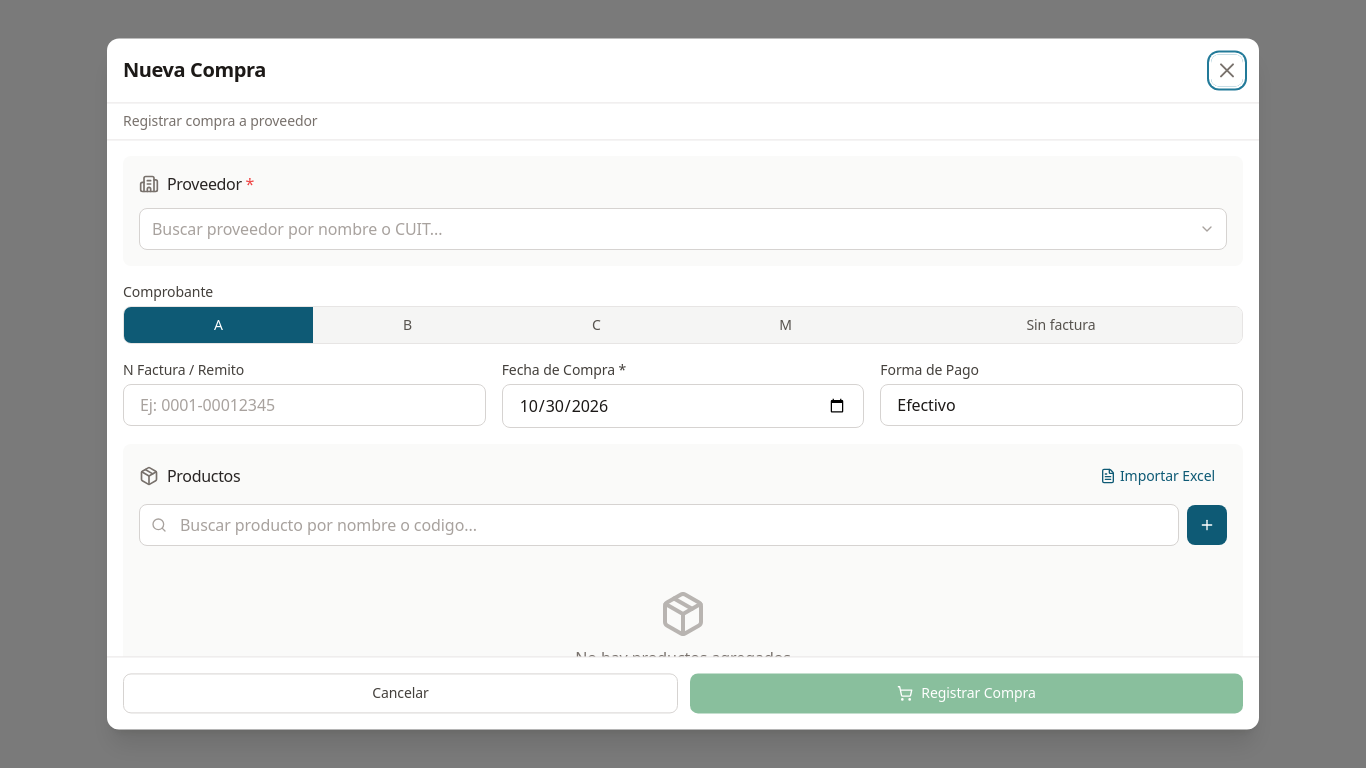
Test: ModalCompra — esqueleto del formulario › mig 293: factura M — discrimina IVA como la A, y avisa la retención
The image size is (1366, 768).
Click the field with placeholder "Buscar producto por nombre o codigo..." at coordinates (659, 525), box [139,504,1179,546]
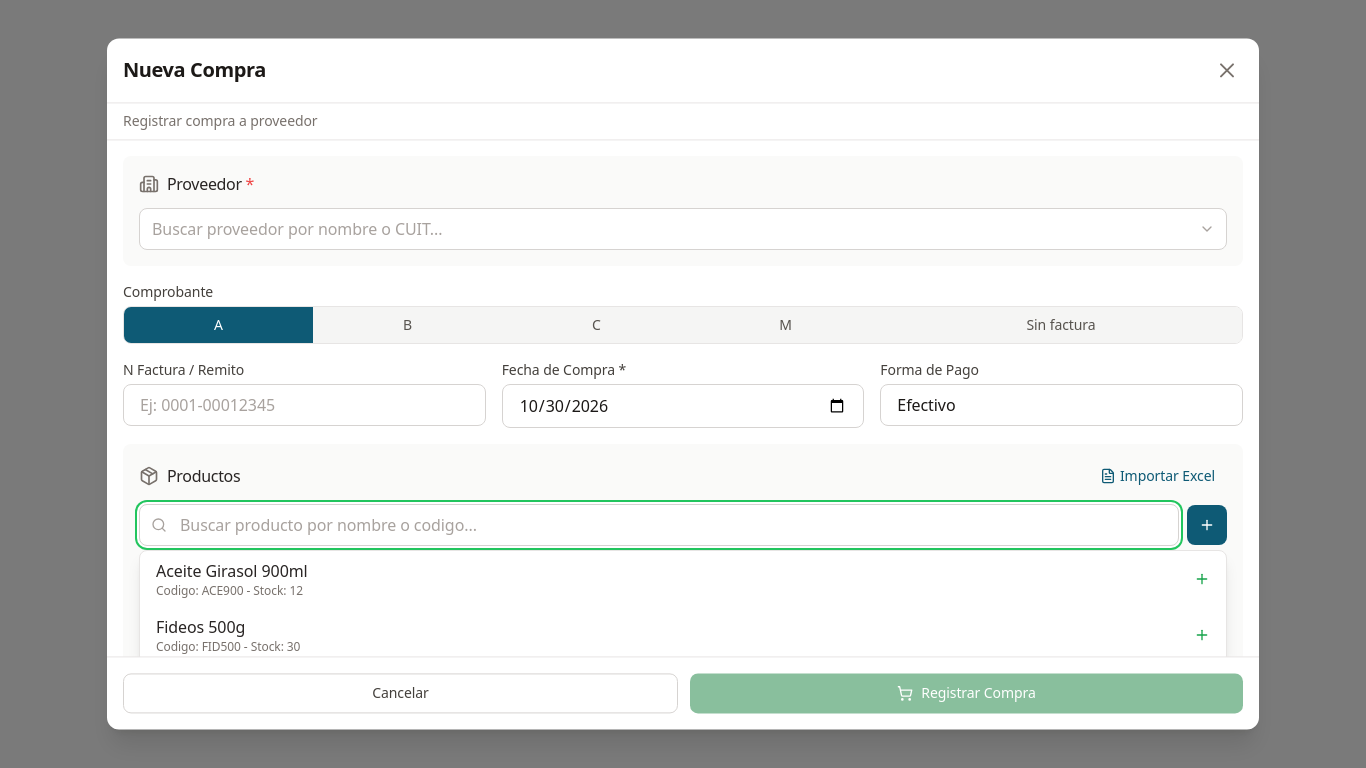
Click the button "Aceite Girasol 900ml Codigo: ACE900 - Stock: 12" at coordinates (232, 571), box [140,551,1226,607]
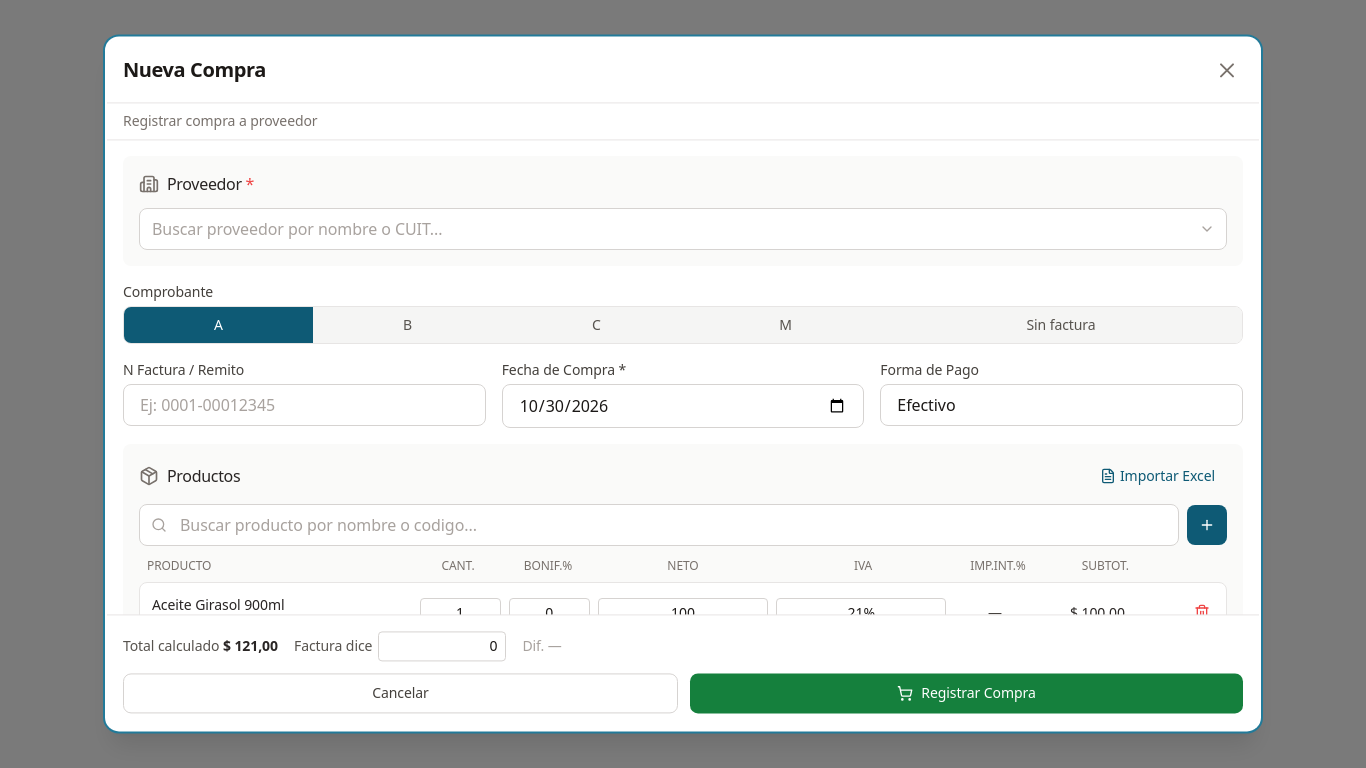
Click the radio button named "Factura M" at coordinates (786, 325), box [691,307,880,343]
(page scrolled)
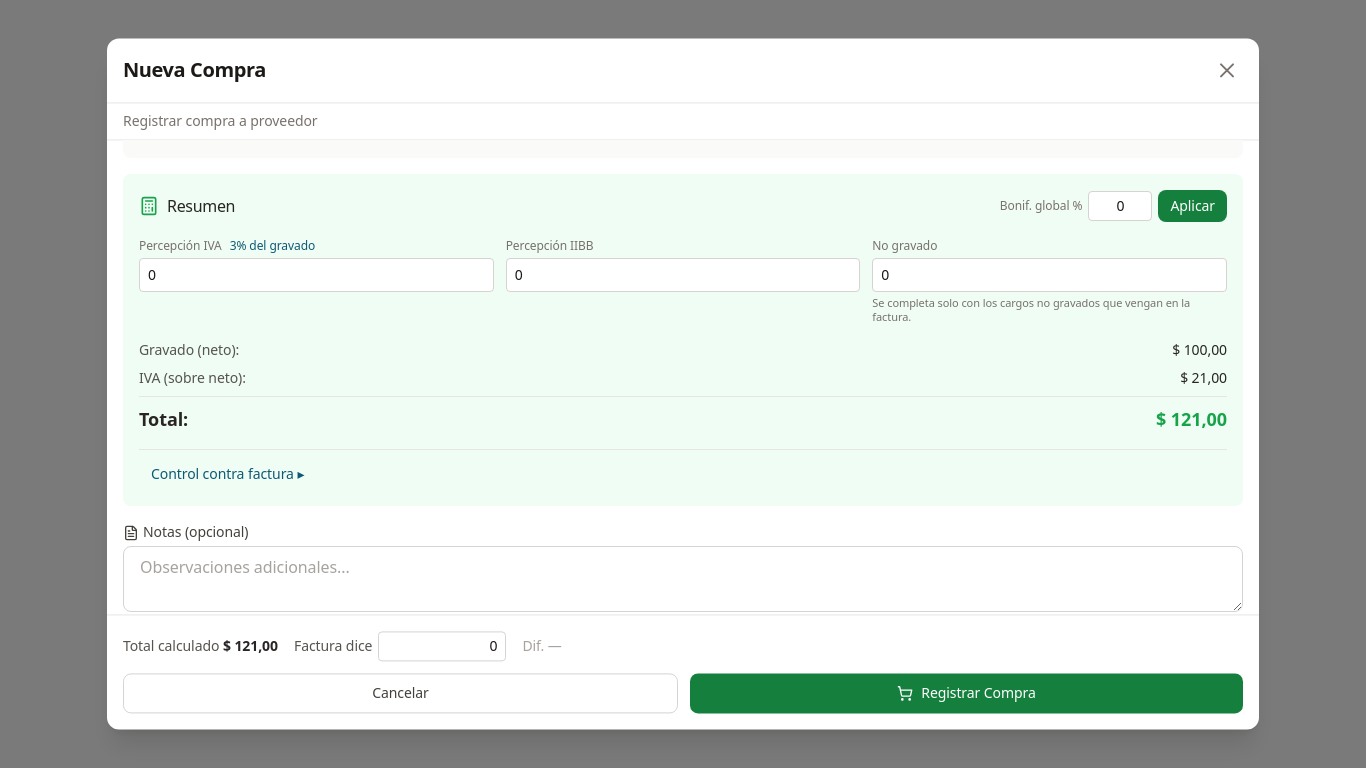
Check: the text "Gravado (neto):" is shown, box [139,340,239,360]
Check: the text "IVA (sobre neto):" is shown, box [139,368,246,388]
